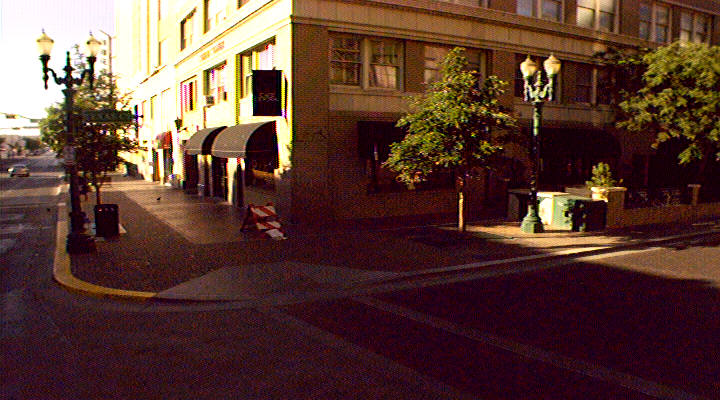Ramp: (148, 256, 412, 308)
